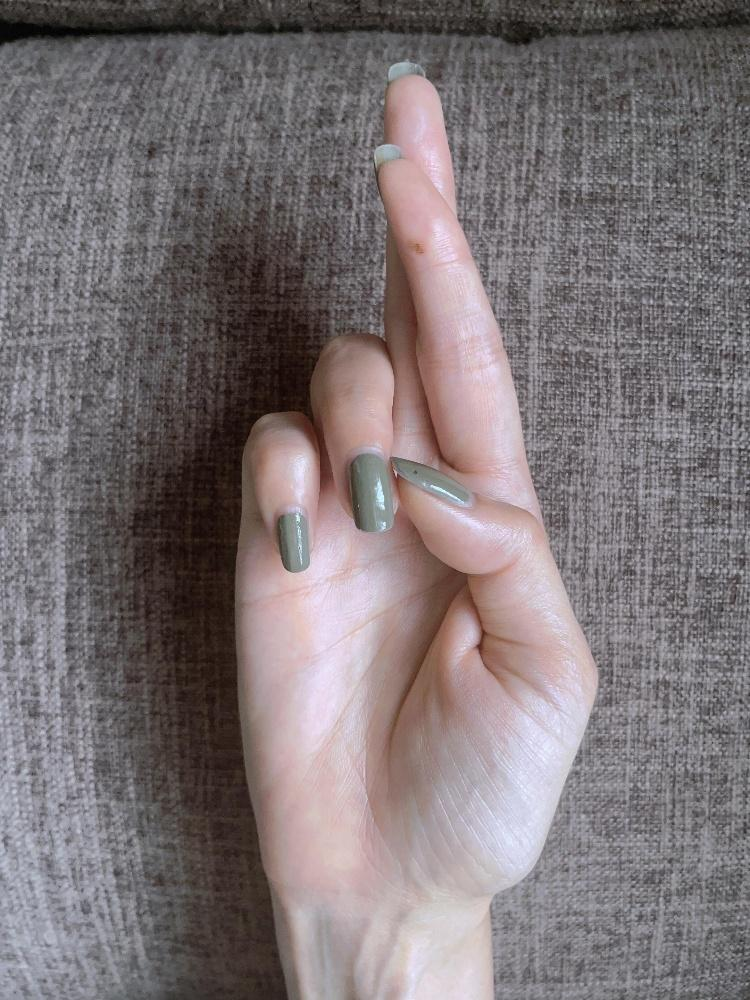r: (229, 71, 601, 902)
